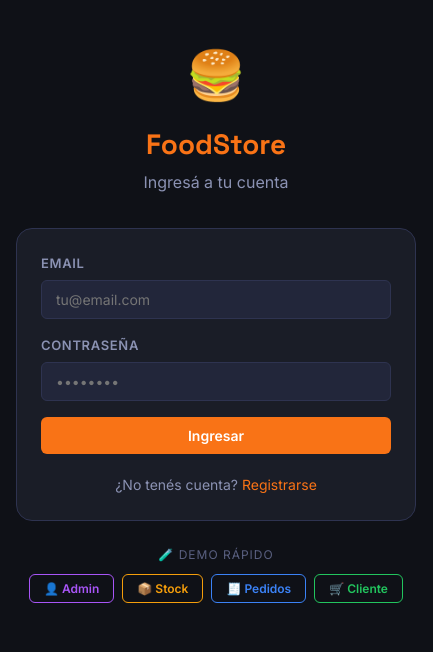
Test: LoginPage › shows error on failed login
Type "bad@b.com" into the field with placeholder "tu@email.com". click: (216, 299)
box: 41,280 -> 391,319
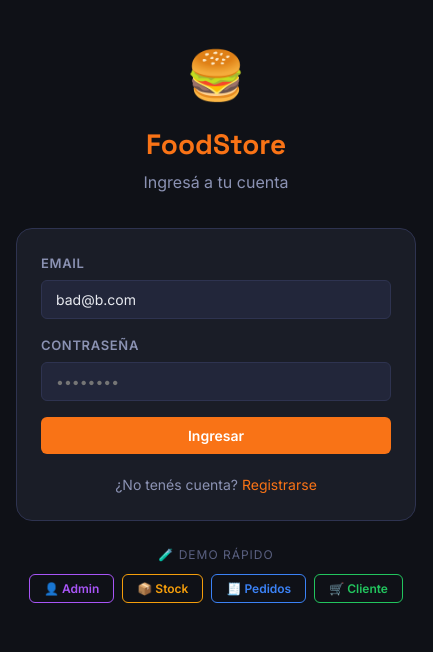
Type "wrong" into the password field with placeholder "••••••••". click: (216, 381)
box: 41,362 -> 391,401
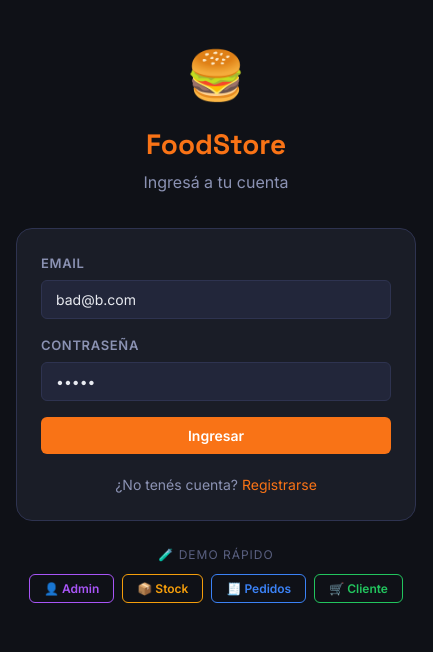
Click the button "Ingresar". click: (216, 435)
box: 41,417 -> 391,454
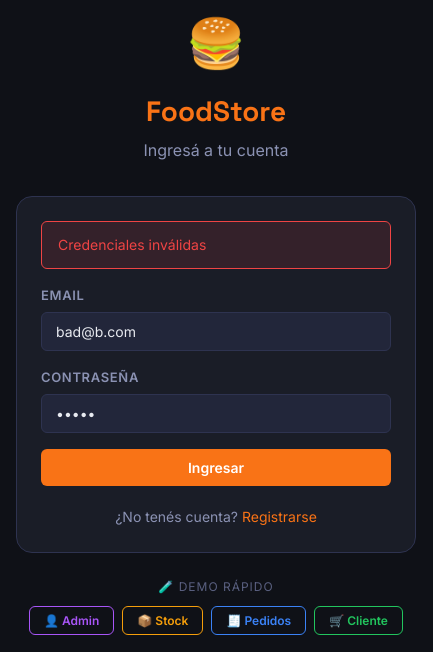
Expected: the text "Credenciales inválidas" is shown, 41,221 -> 391,269
